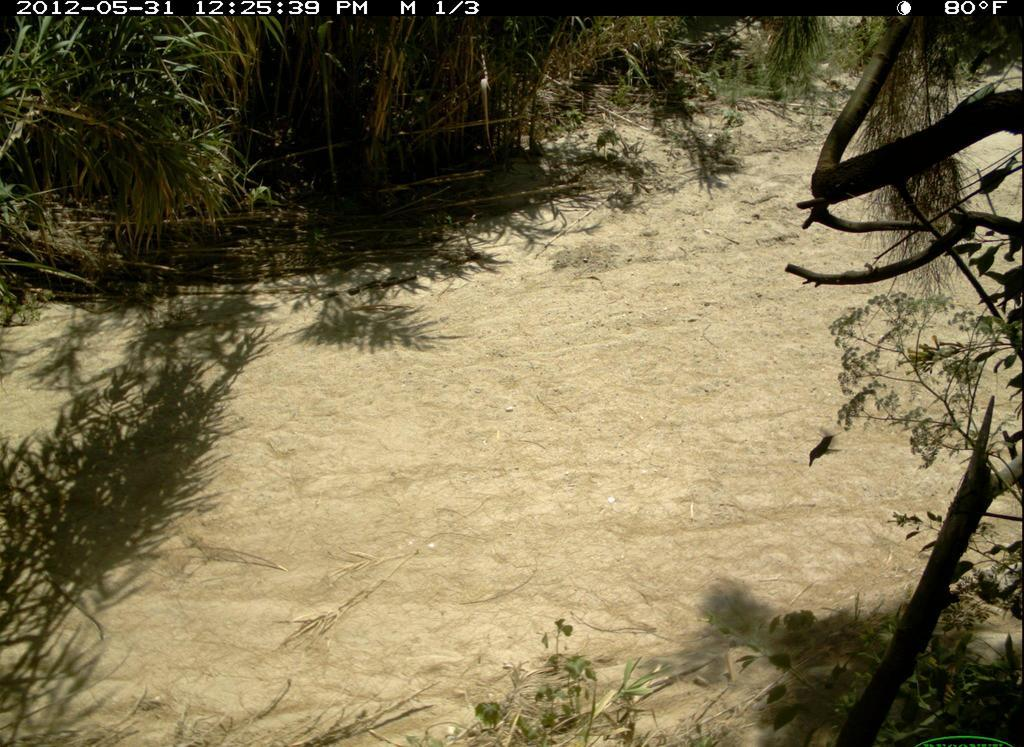bird: (802, 420, 849, 477)
